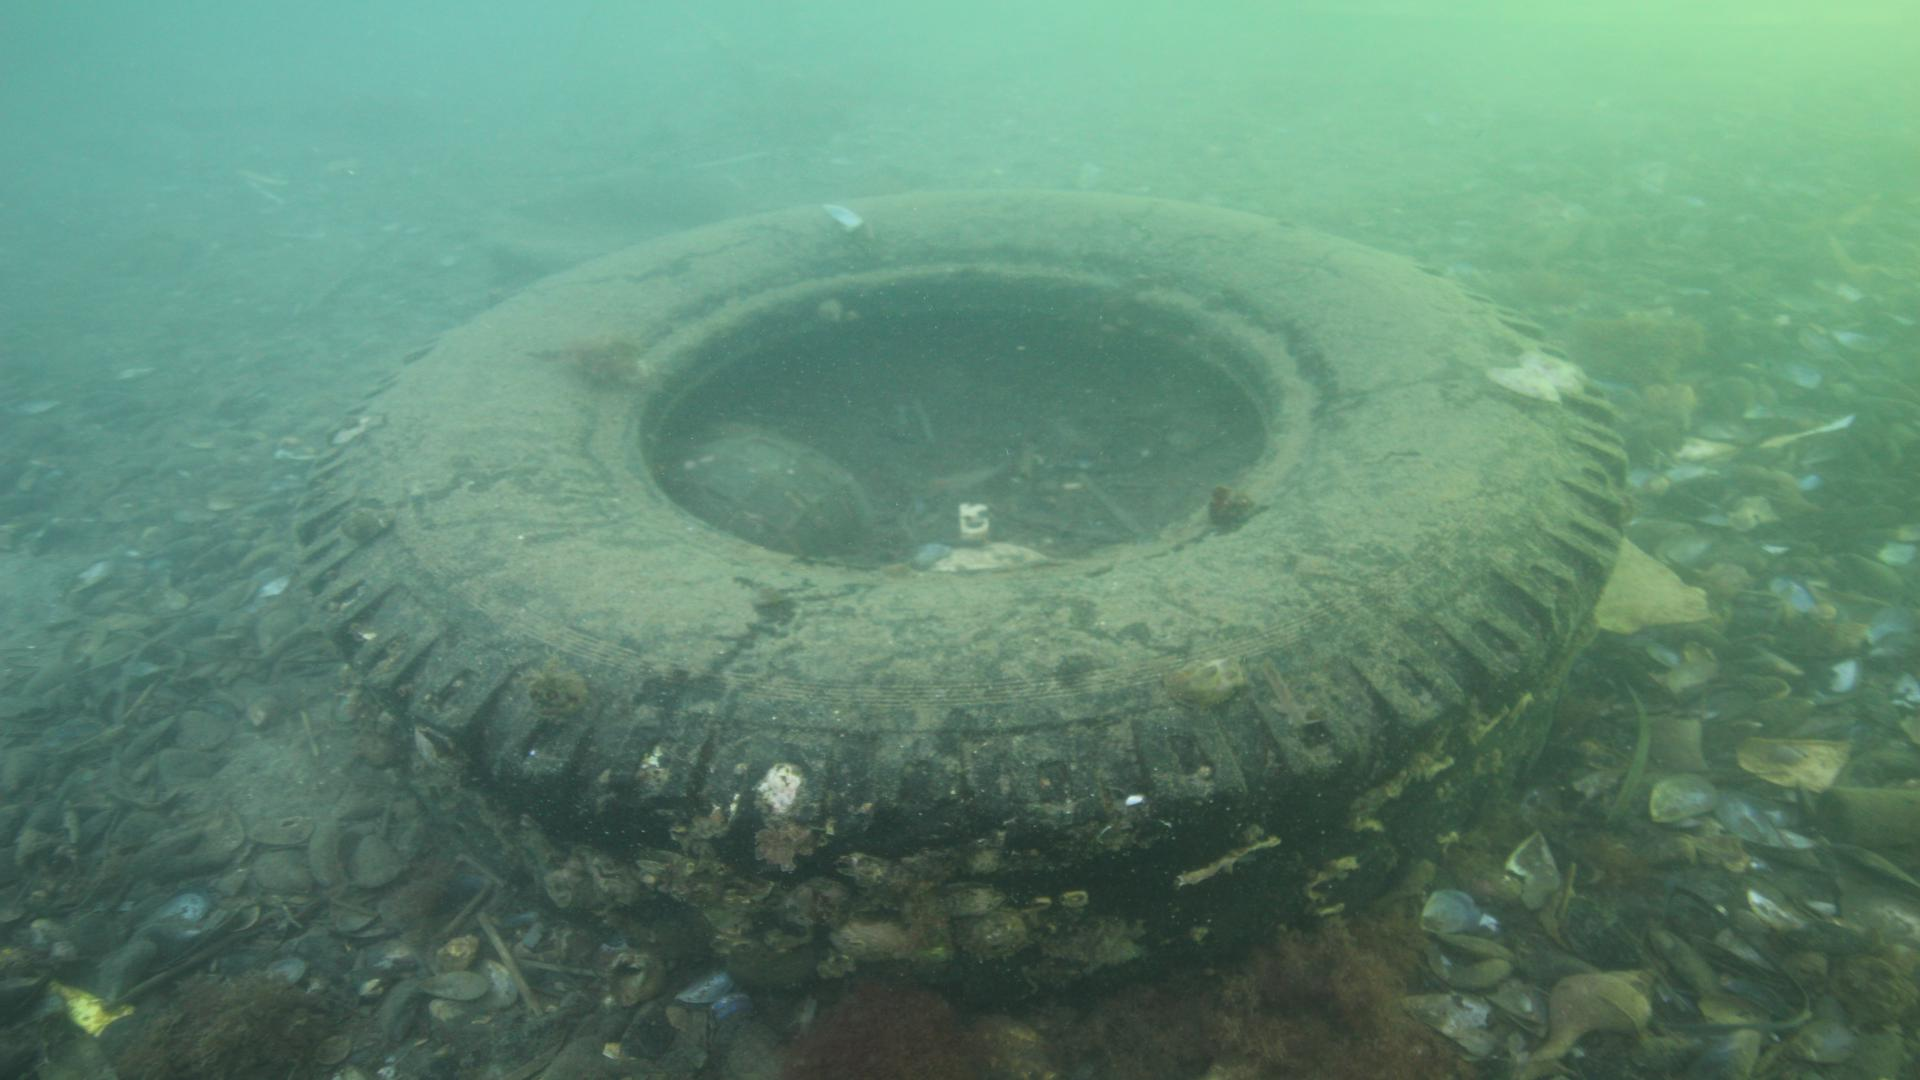tire: (295, 185, 1635, 1001)
